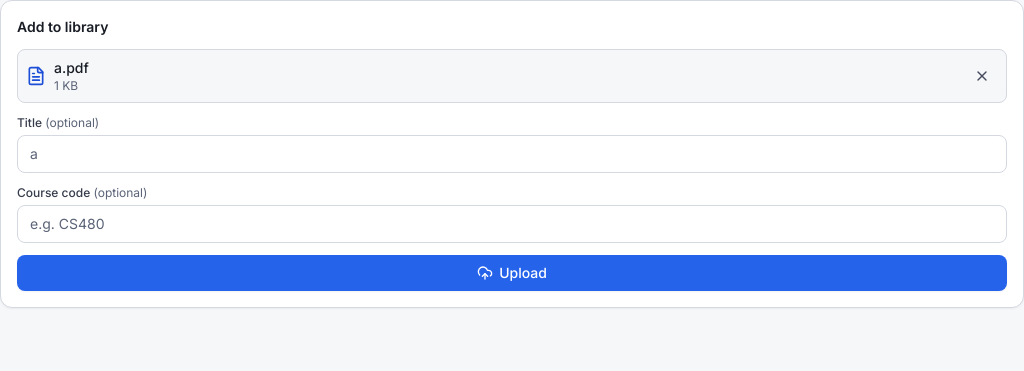
DocumentUpload › shows the API's error message when the upload is refused
The image size is (1024, 371).
Earlier steps of the test are not shown.
Click the button "Upload".
click(512, 273)  # box [17,255,1007,291]
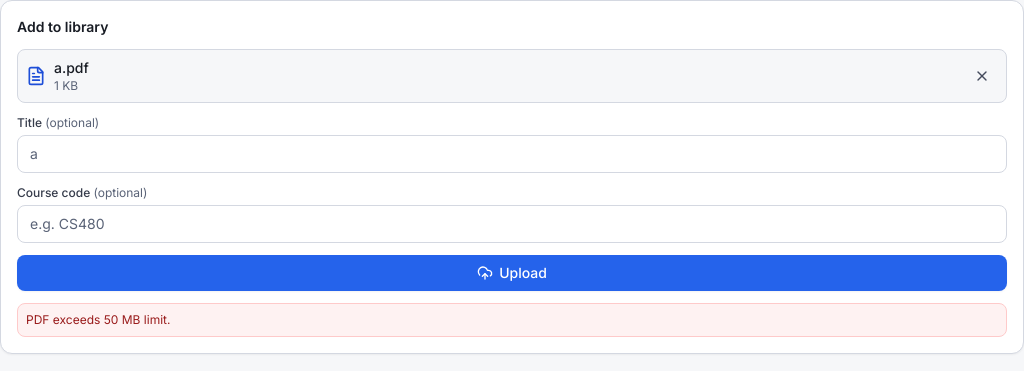
Check: the message reads "PDF exceeds 50 MB limit.", box [26,312,170,327]
